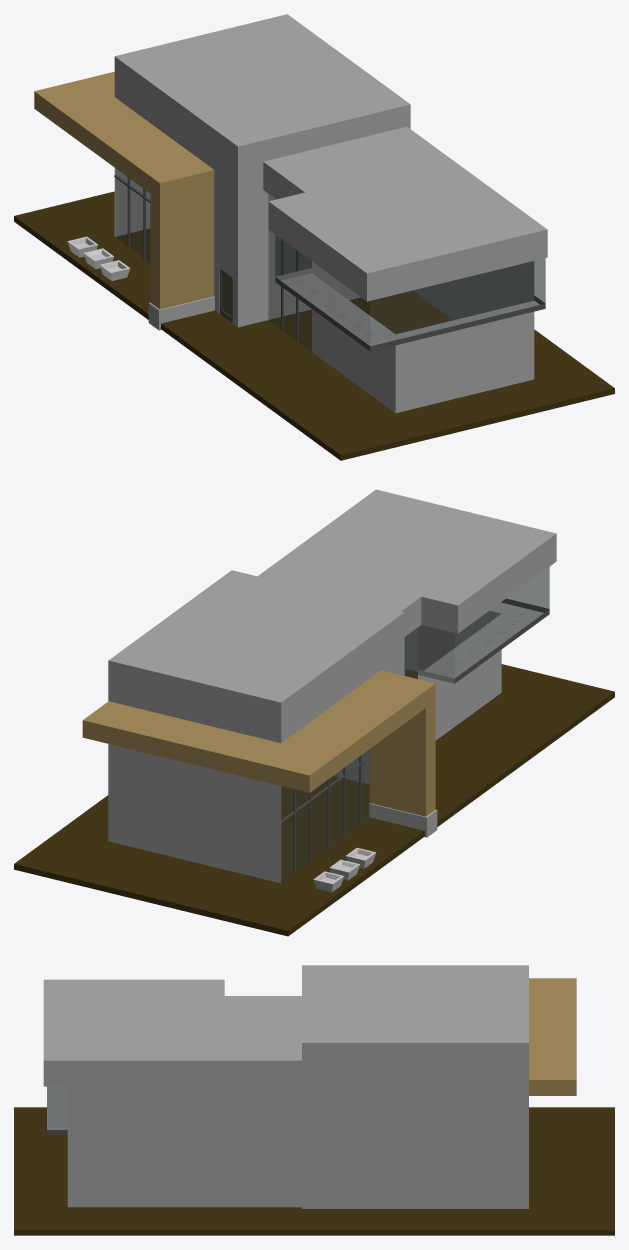
The model's file is Cafe.fbx.
3 views of the same model, one above another, from view 1: azimuth 30°, elevation 25°; view 2: azimuth 150°, elevation 25°; view 3: azimuth 270°, elevation 25° (orthographic). The views are drawn at different scales.
Visible parts, largest first — view 1: Cafe; view 2: Cafe; view 3: Cafe.
Part boxes in pixels (x1=…): Cafe: x1=14, y1=14, x2=614, y2=460; Cafe: x1=14, y1=489, x2=614, y2=936; Cafe: x1=14, y1=965, x2=614, y2=1235.
Size of the model in its own units: 5.57 by 3.61 by 11.42.
